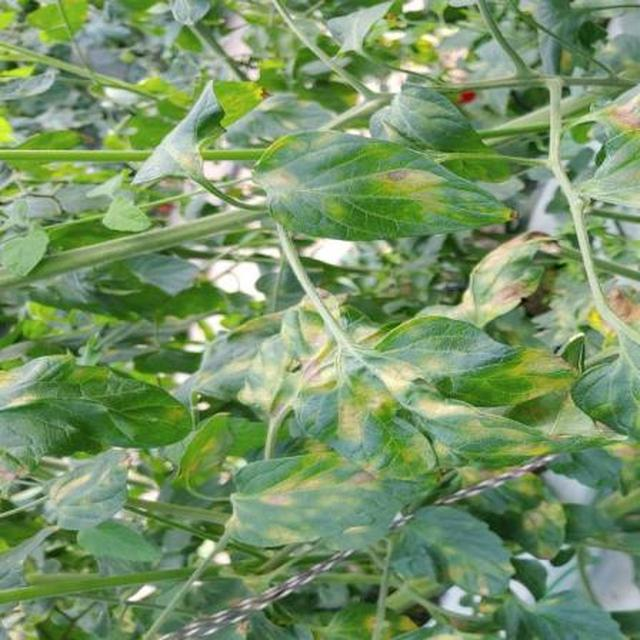Leaf Mold: (117, 115, 640, 640)
